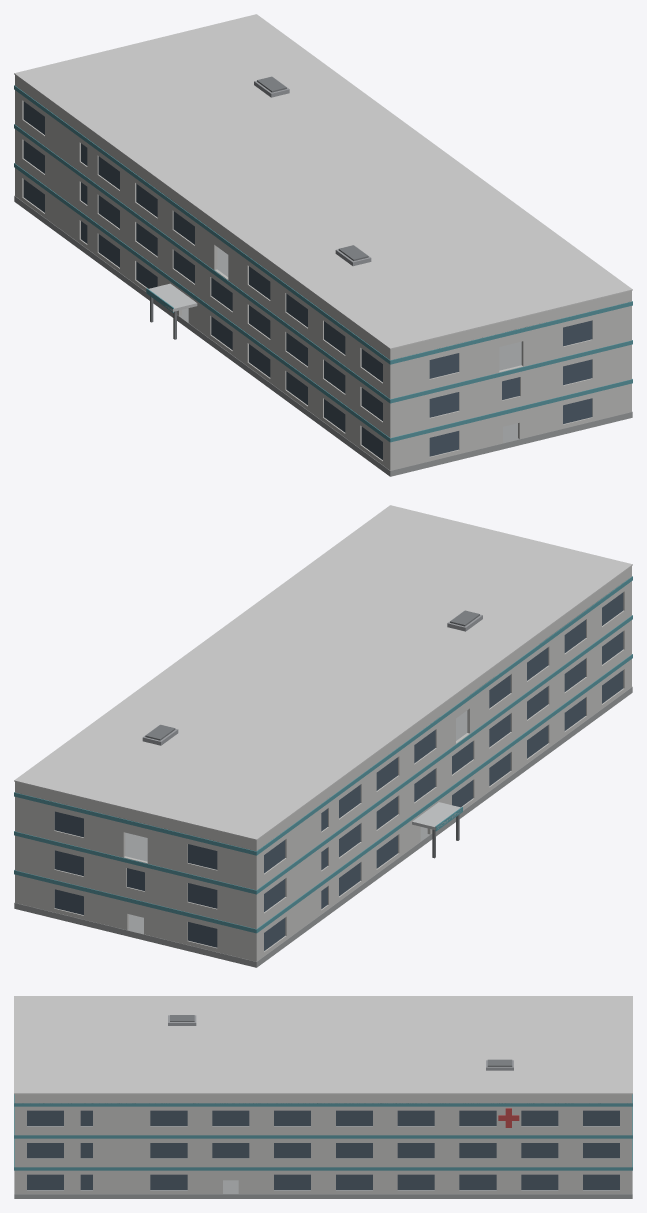
The model's file is hosp-east.mega-v1.lod1.glb.
The picture shows the model from 3 angles, top to bottom: view 1: azimuth 30°, elevation 25°; view 2: azimuth 150°, elevation 25°; view 3: azimuth 270°, elevation 25°; orthographic projection. The views are drawn at different scales.
Visible parts, largest first — view 1: hosp-east; view 2: hosp-east; view 3: hosp-east.
Part boxes in pixels (box(x1,y1,x2,y2)): hosp-east: box(14, 14, 632, 476); hosp-east: box(14, 505, 632, 967); hosp-east: box(14, 996, 632, 1198).
Bounding box in the file's own units: 28.68 × 13.75 × 70.12.
